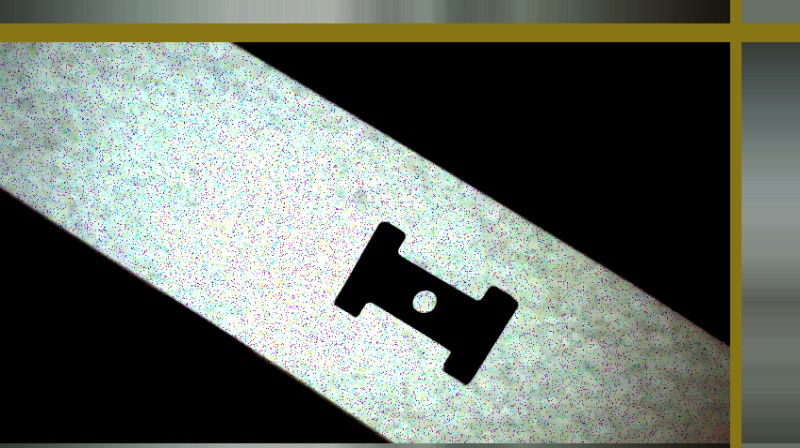O002: (327, 217, 519, 385)
